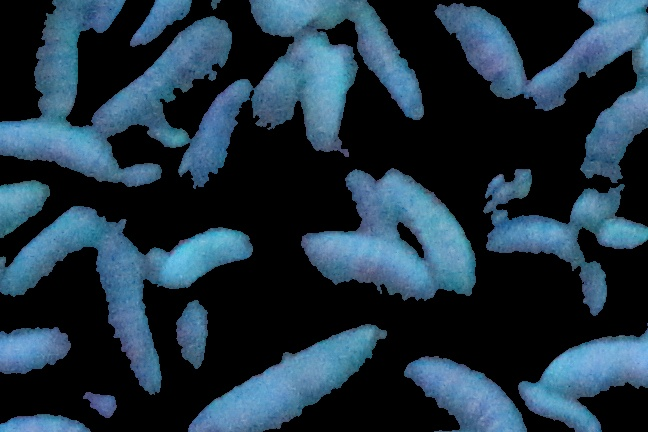larvae: (180, 325, 381, 432), (82, 17, 238, 129), (480, 207, 606, 317), (517, 10, 648, 108), (367, 171, 471, 289), (93, 228, 164, 387), (302, 221, 438, 293), (6, 202, 102, 300), (182, 69, 254, 198), (408, 357, 523, 432), (438, 1, 525, 97), (19, 1, 85, 120), (358, 1, 419, 128), (1, 120, 125, 178), (547, 331, 648, 400), (147, 224, 257, 287), (302, 44, 356, 160), (586, 86, 648, 182), (253, 45, 316, 132), (523, 383, 601, 432), (1, 327, 73, 378), (173, 298, 213, 370), (1, 180, 59, 229)
